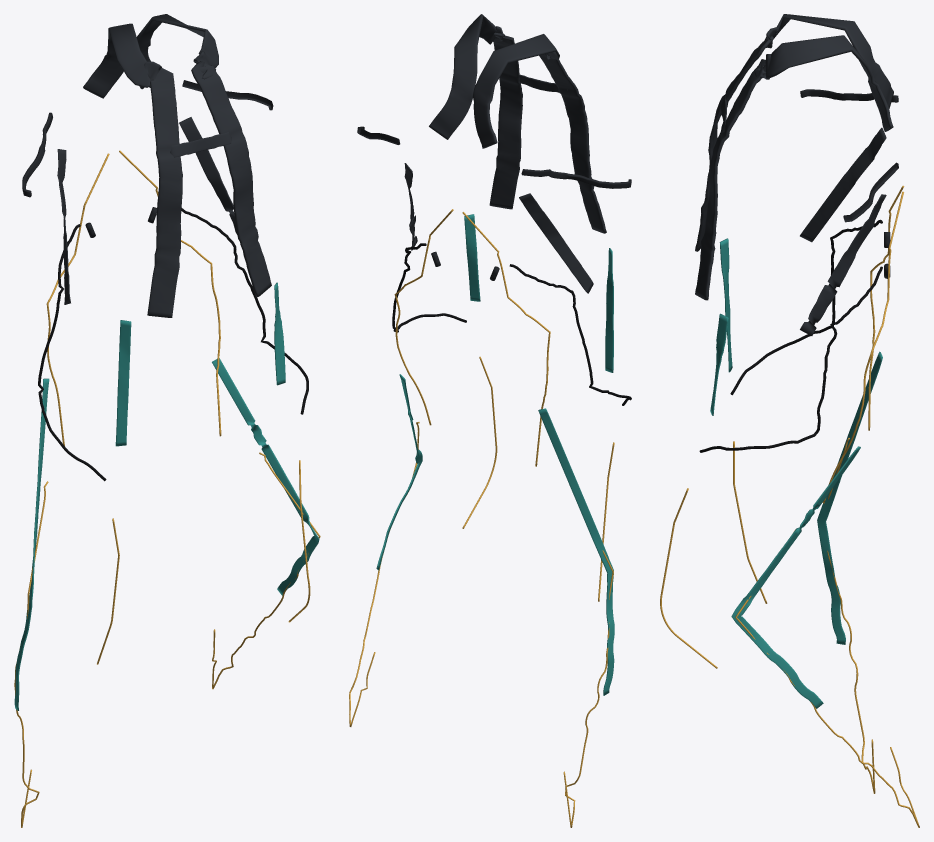
The model's file is sitka_cables_walk.glb.
3 renders of one model, left to right at view 1: azimuth 30°, elevation 25°; view 2: azimuth 150°, elevation 25°; view 3: azimuth 270°, elevation 25°, orthographic. The views are drawn at different scales.
Visible parts, largest first — view 1: harness_r, harness_l, hamstring_band_l, m3_band_r, hamstring_band_r, crazycreek_l, bowden_r, crazycreek_r, bowden_l, m3_band_l, sternum_strap, t3_tendon_r (+2 smaller); view 2: harness_l, harness_r, hamstring_band_r, crazycreek_r, m3_band_r, m3_band_l, m5_lever_r, hamstring_band_l, bowden_r, t3_tendon_r, t3_tendon_l, bowden_l (+1 smaller); view 3: harness_l, harness_r, hamstring_band_l, hamstring_band_r, crazycreek_r, crazycreek_l, bowden_l, t3_tendon_l, bowden_r, m3_band_r, calf_band_r, m3_band_l (+5 smaller).
Part boxes in pixels (left/top/right/bottom): harness_r: left=83, top=23, right=182, bottom=317; harness_l: left=136, top=14, right=271, bottom=296; hamstring_band_l: left=212, top=358, right=319, bottom=595; m3_band_r: left=115, top=320, right=131, bottom=446; hamstring_band_r: left=14, top=378, right=49, bottom=710; crazycreek_l: left=179, top=117, right=237, bottom=235; bowden_r: left=38, top=224, right=106, bottom=481; crazycreek_r: left=57, top=149, right=70, bottom=304; bowden_l: left=181, top=208, right=308, bottom=414; m3_band_l: left=274, top=282, right=285, bottom=385; sternum_strap: left=170, top=132, right=231, bottom=157; t3_tendon_r: left=46, top=153, right=109, bottom=445; harness_l: left=429, top=14, right=522, bottom=209; harness_r: left=472, top=34, right=606, bottom=233; hamstring_band_r: left=538, top=408, right=614, bottom=695; crazycreek_r: left=519, top=193, right=593, bottom=293; m3_band_r: left=605, top=248, right=613, bottom=372; m3_band_l: left=464, top=214, right=480, bottom=301; m5_lever_r: left=521, top=169, right=631, bottom=188; hamstring_band_l: left=376, top=374, right=422, bottom=570; bowden_r: left=509, top=264, right=631, bottom=405; t3_tendon_r: left=462, top=212, right=550, bottom=466; t3_tendon_l: left=394, top=209, right=453, bottom=425; bowden_l: left=392, top=243, right=466, bottom=332; harness_l: left=695, top=35, right=893, bottom=300; harness_r: left=695, top=14, right=893, bottom=251; hamstring_band_l: left=731, top=446, right=860, bottom=708; hamstring_band_r: left=817, top=351, right=882, bottom=644; crazycreek_r: left=800, top=127, right=886, bottom=242; crazycreek_l: left=800, top=194, right=886, bottom=335; bowden_l: left=699, top=266, right=882, bottom=452; t3_tendon_l: left=822, top=191, right=903, bottom=503; bowden_r: left=730, top=219, right=882, bottom=395; m3_band_r: left=719, top=238, right=732, bottom=372; calf_band_r: left=827, top=438, right=874, bottom=793; m3_band_l: left=710, top=313, right=728, bottom=415.
Bounding box in the file's own units: 0.5581 × 1.58 × 0.453.
